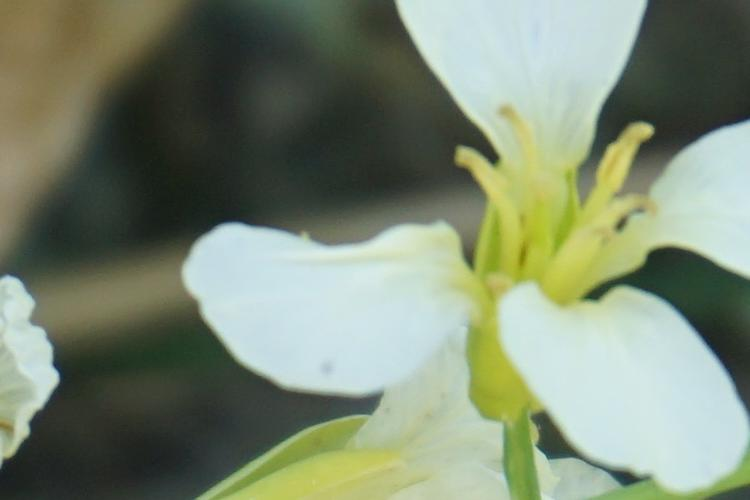white: (173, 7, 750, 484), (1, 271, 69, 463)
